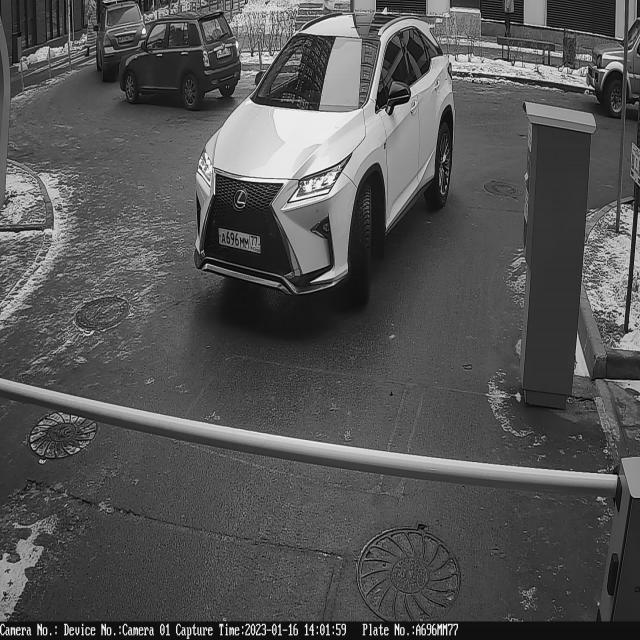car-plate-numbers: (217, 225, 263, 260)
